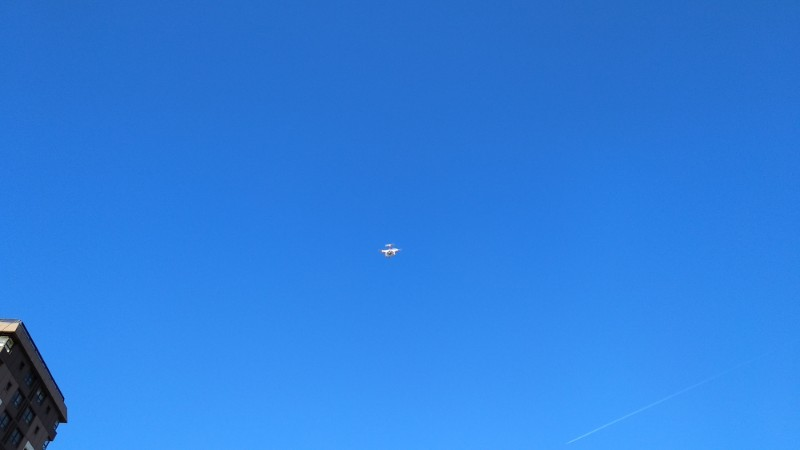drone: (379, 242, 404, 260)
